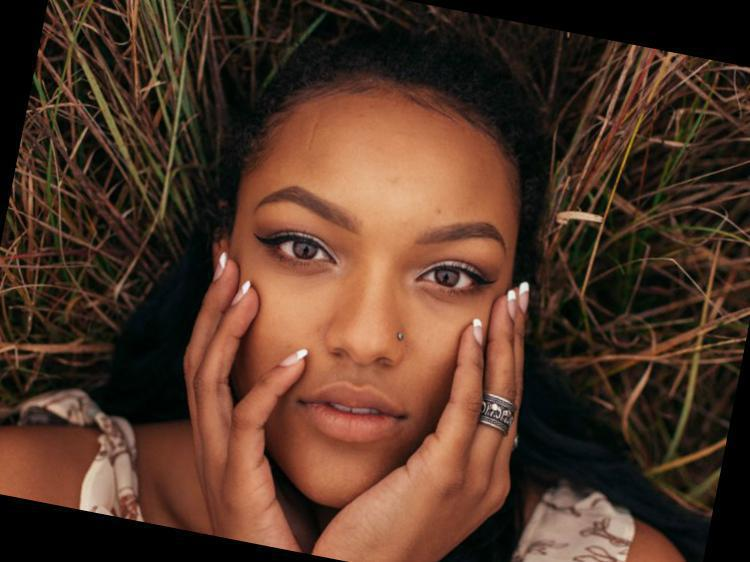Sober: (250, 117, 500, 473)
